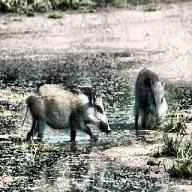boar: (21, 82, 111, 142), (134, 68, 168, 130)
